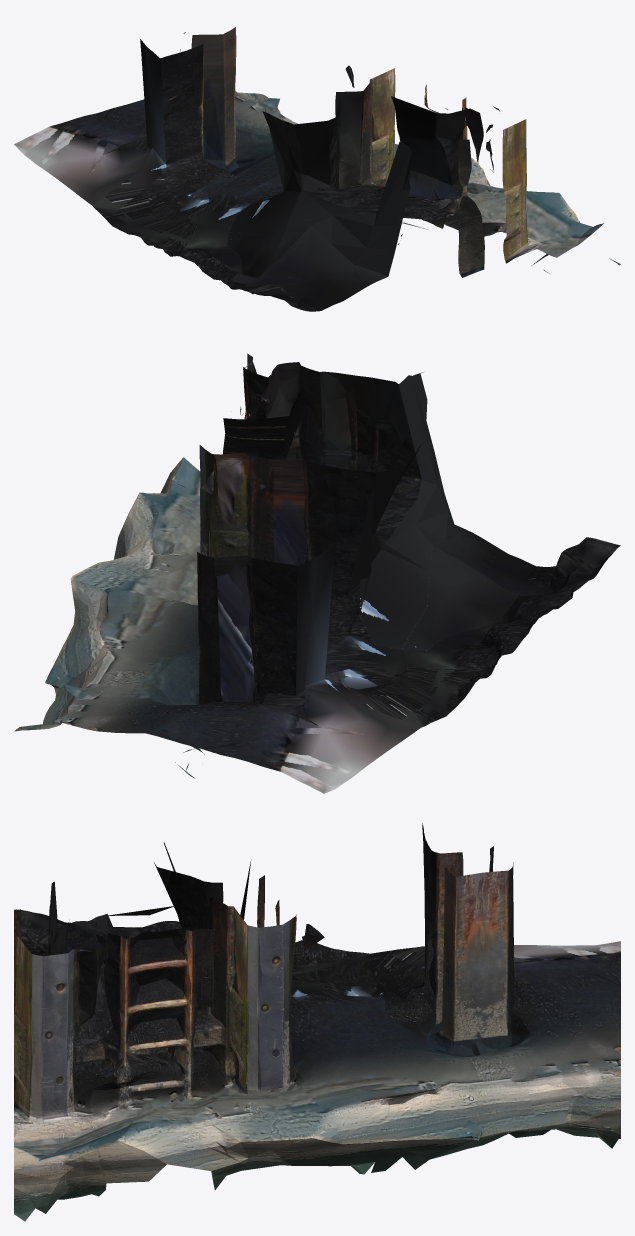
The picture shows the model from 3 angles, top to bottom: view 1: azimuth 30°, elevation 25°; view 2: azimuth 150°, elevation 25°; view 3: azimuth 270°, elevation 25°; orthographic projection. The views are drawn at different scales.
Size of the model in its own units: 3.76 by 1.87 by 4.18.
Materials: 4 (4 with a texture image).
